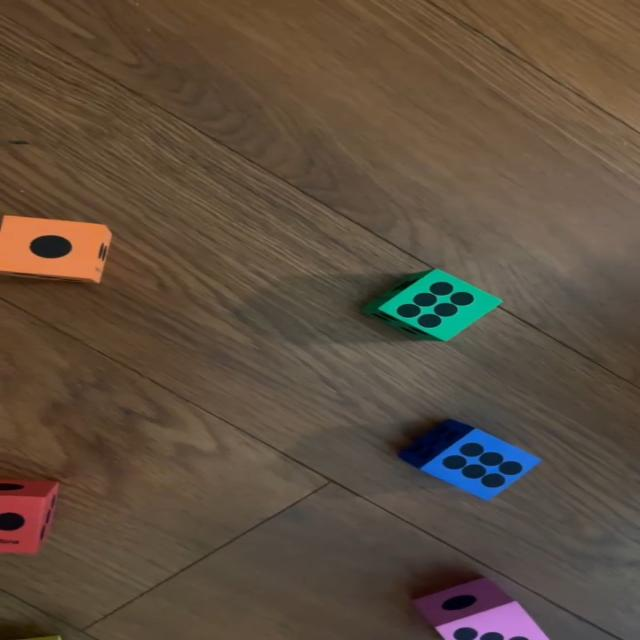blue_block: (405, 418, 541, 503)
red_block: (0, 479, 63, 556)
